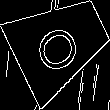O_NE: (31, 13, 90, 75)
